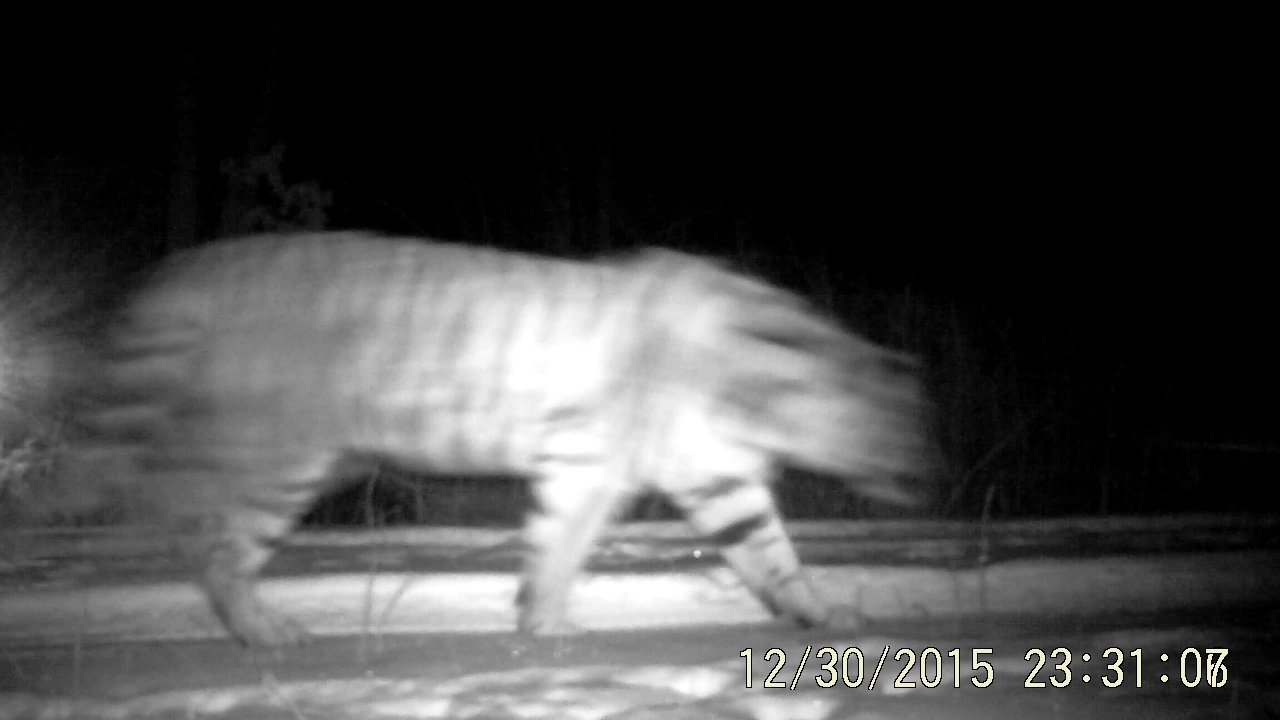Tiger: (52, 98, 1016, 715)
